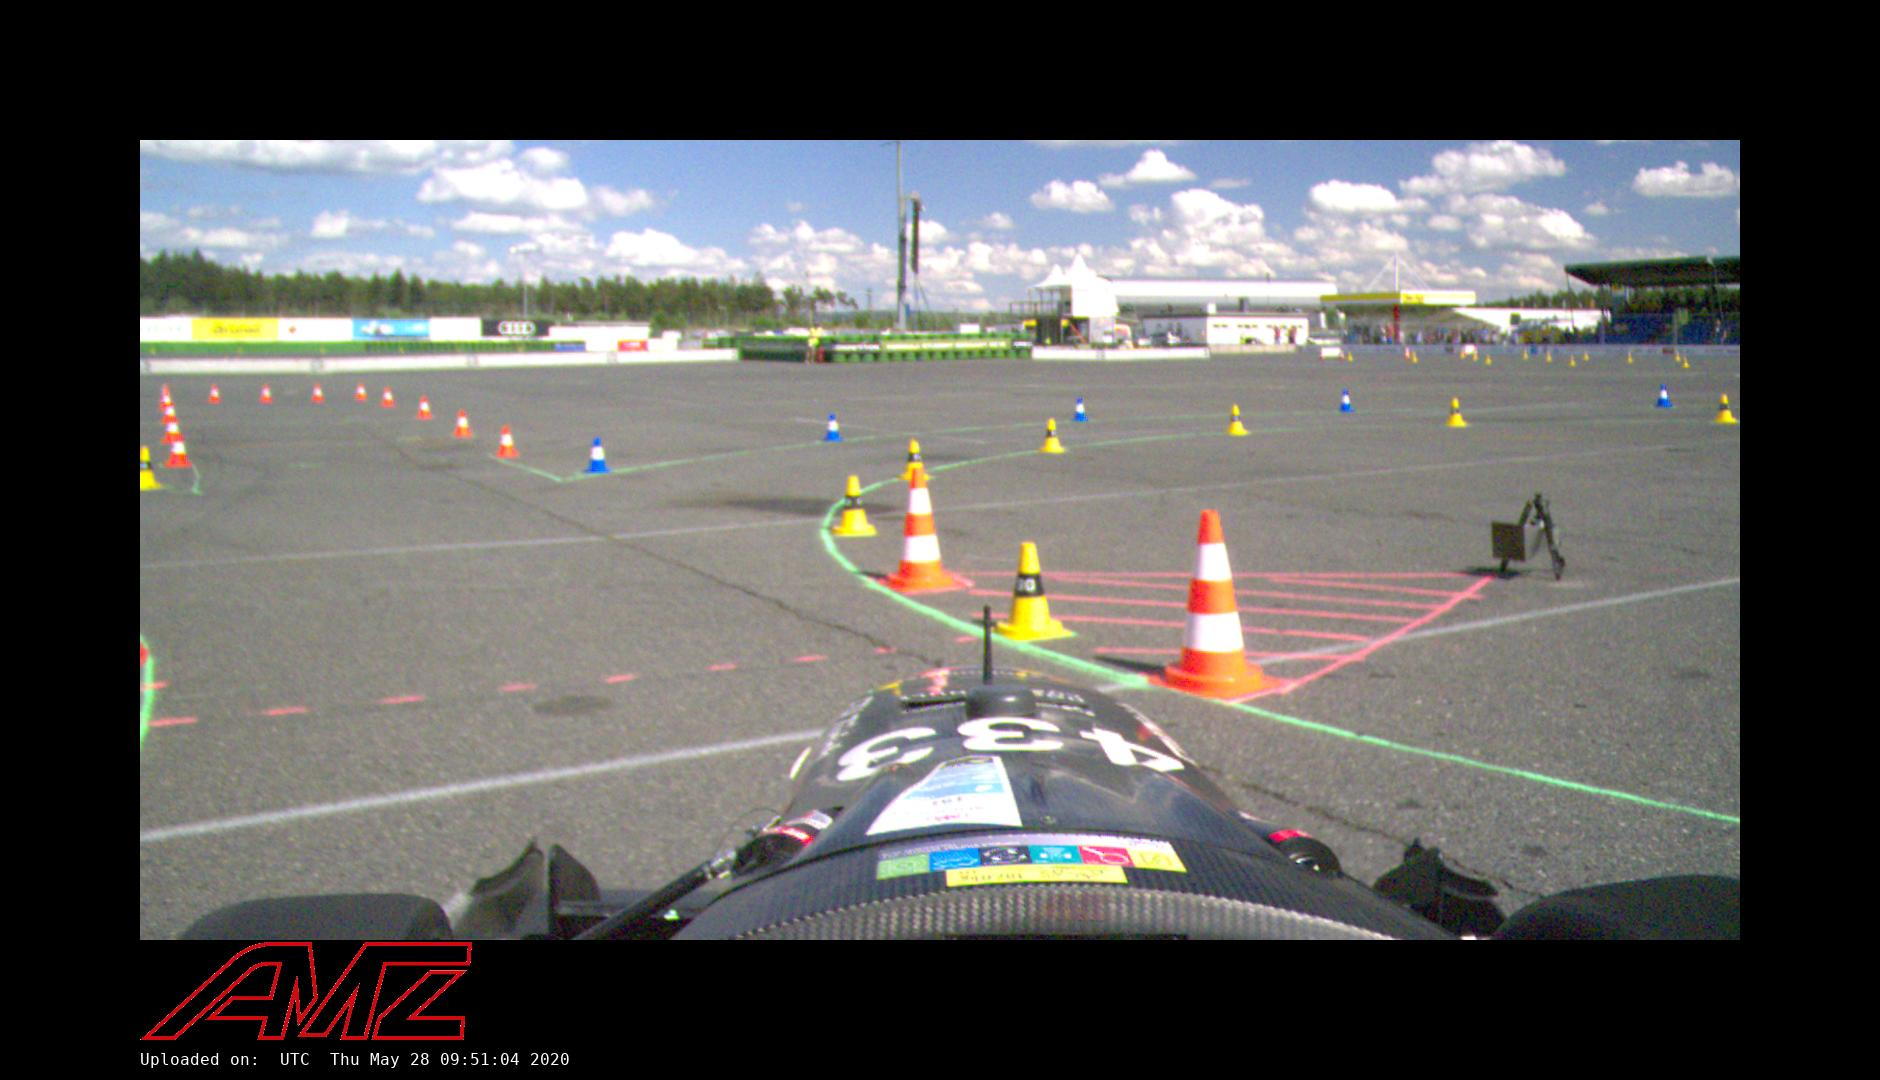blue_cone: (581, 434, 609, 474), (820, 412, 844, 443), (1071, 397, 1090, 423), (1654, 383, 1674, 407), (1337, 388, 1355, 413)
large_orange_cone: (1155, 504, 1272, 702), (894, 468, 949, 591)
orange_cone: (165, 434, 191, 467), (495, 425, 518, 457), (452, 409, 474, 437), (416, 395, 433, 420), (380, 388, 395, 408), (259, 384, 274, 403), (208, 384, 222, 404), (354, 383, 369, 400), (312, 384, 324, 403)
yellow_cone: (997, 538, 1070, 645), (832, 473, 881, 537), (896, 435, 932, 484), (140, 444, 161, 491), (1039, 417, 1066, 453), (1443, 396, 1469, 428), (1226, 402, 1249, 437), (1713, 394, 1738, 423)
